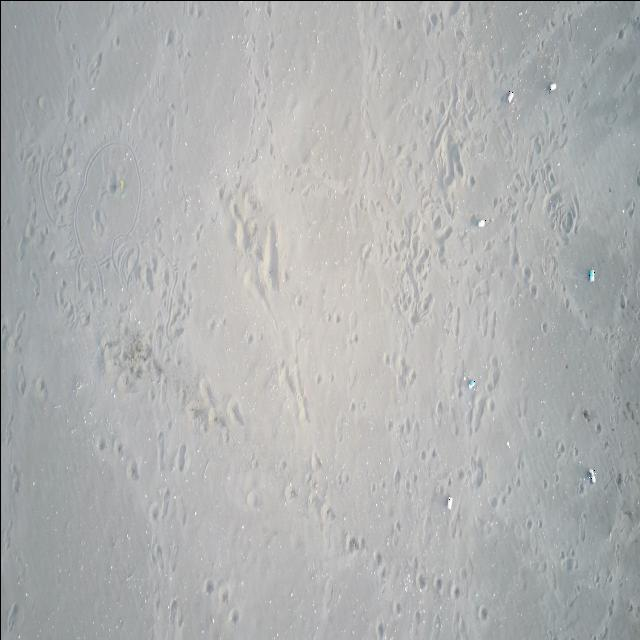Garbage: (587, 468, 595, 483), (587, 268, 595, 281), (507, 89, 513, 103), (467, 379, 475, 388), (477, 220, 487, 227), (448, 495, 452, 510), (548, 83, 555, 91)
